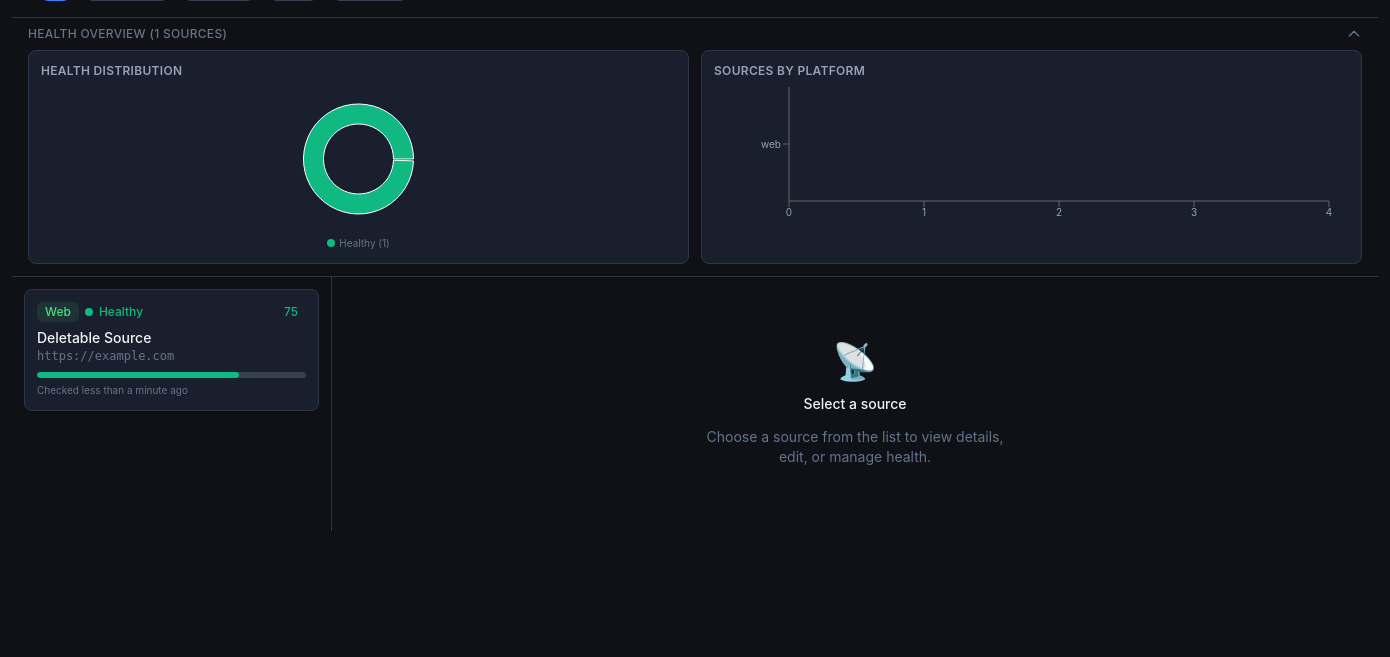
it: Seam 9: Delete 409 error parsing (R9) › extracts content count from 409 error message
// Select the source to show detail panel
Click the text "Deletable Source" at (94, 338), box [37, 329, 151, 346]
(page scrolled)
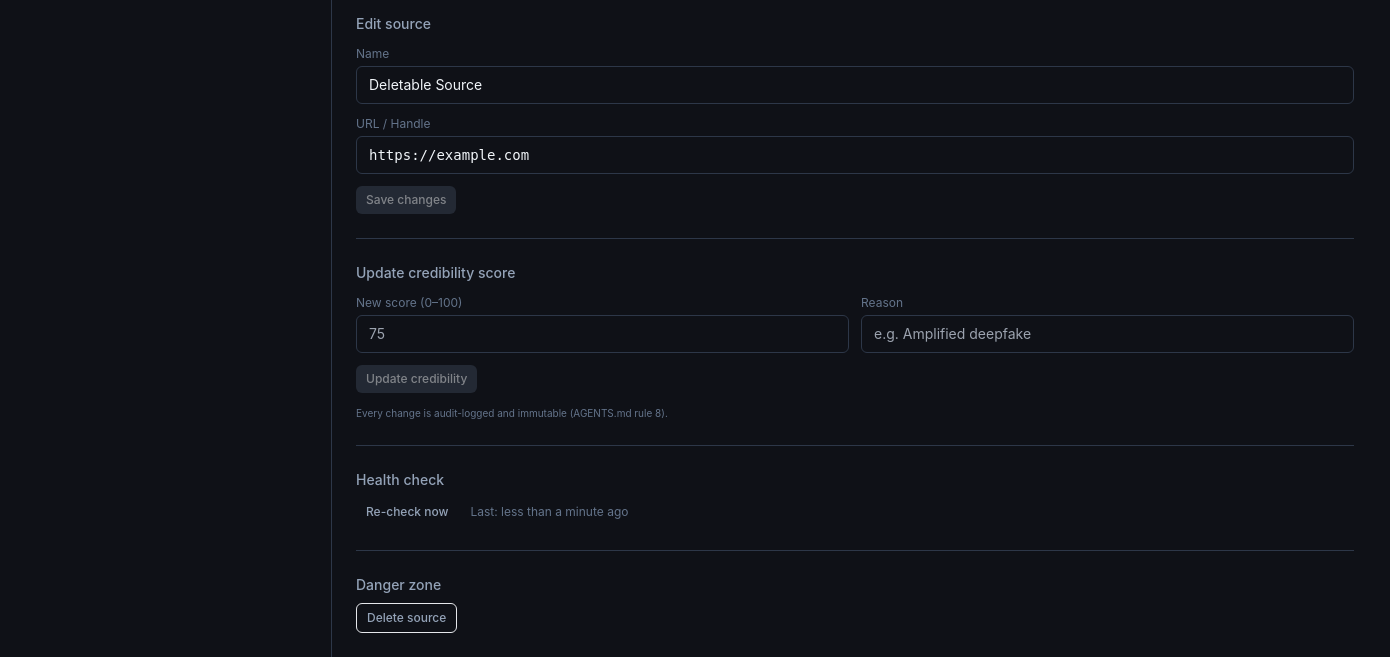
Expected: the button "Delete source" is shown
Click the button "Delete source" at (407, 618), box [356, 603, 457, 633]
(page scrolled)
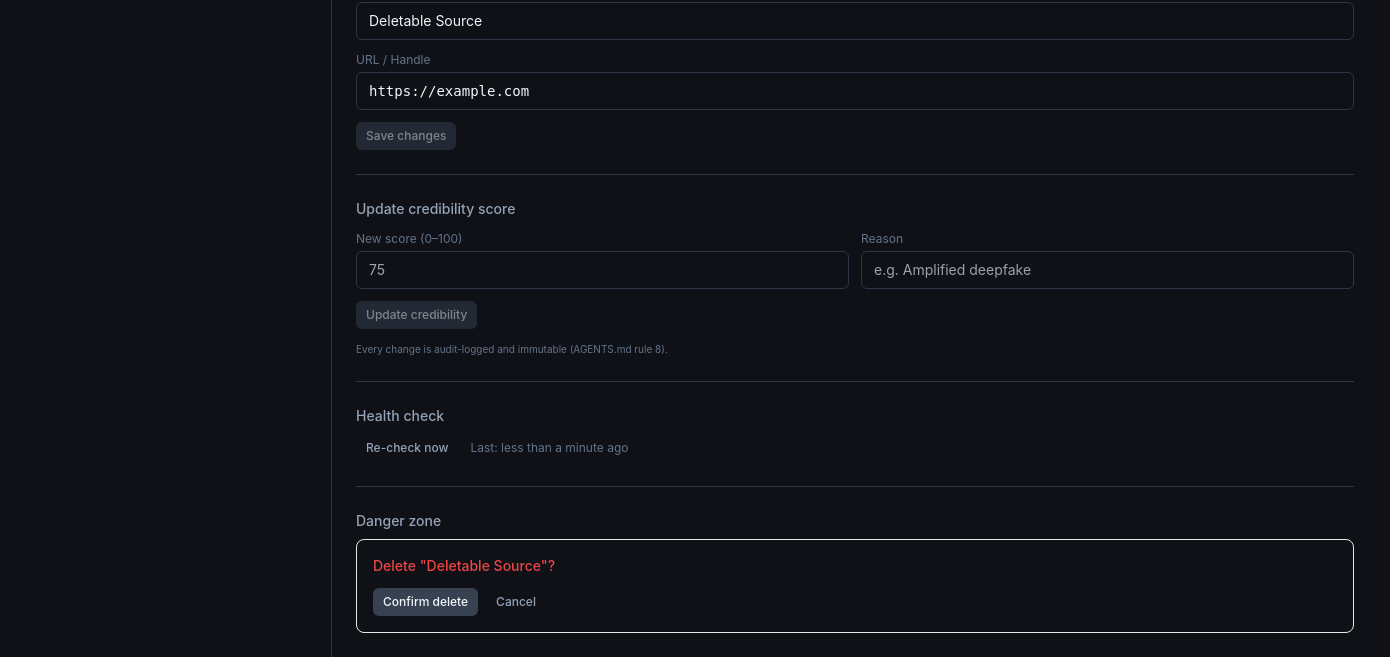
Expected: the button "Confirm delete" is shown
Click the button "Confirm delete" at (426, 602), box [373, 588, 478, 616]
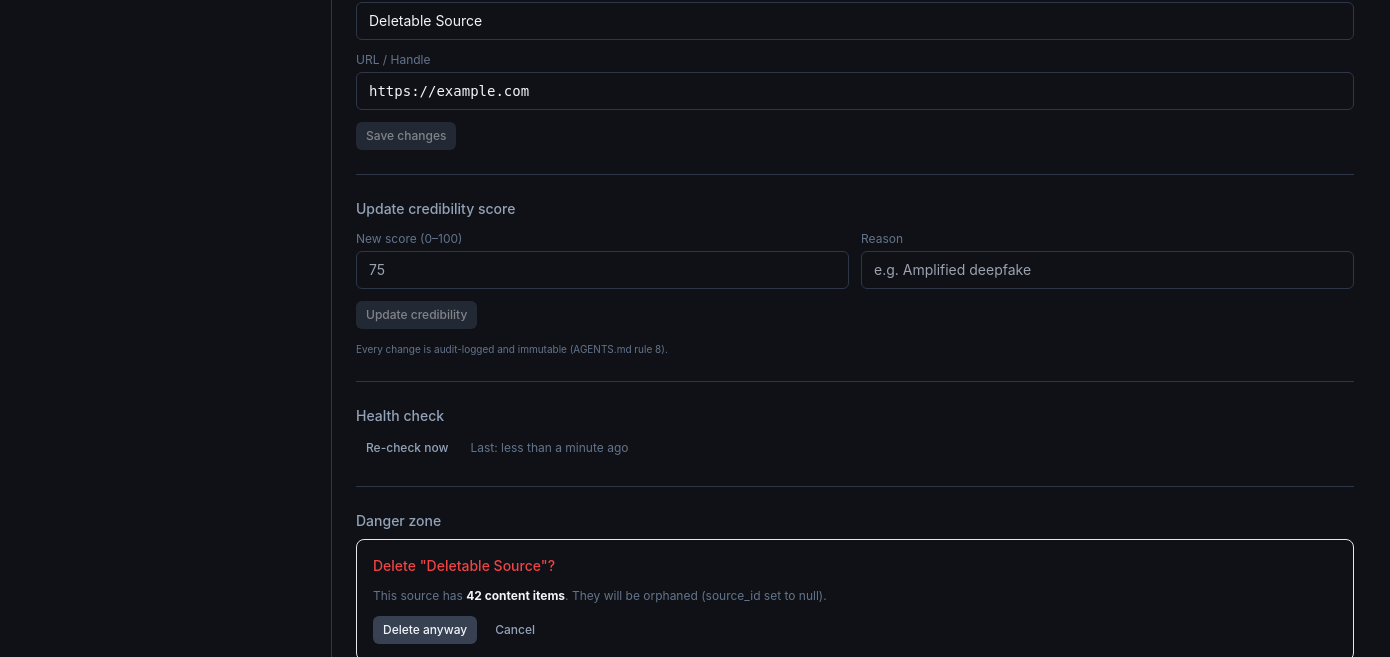
Expected: the text "42 content items" is shown, [466, 588, 565, 603]
